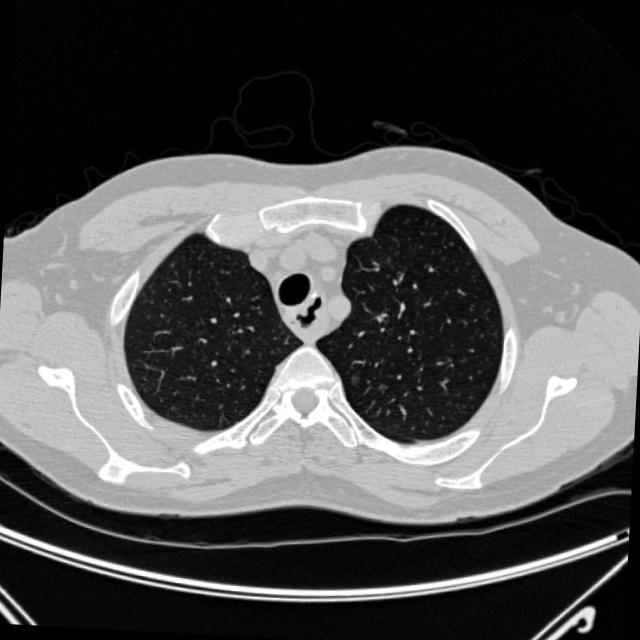nodule: (342, 368, 364, 391)
